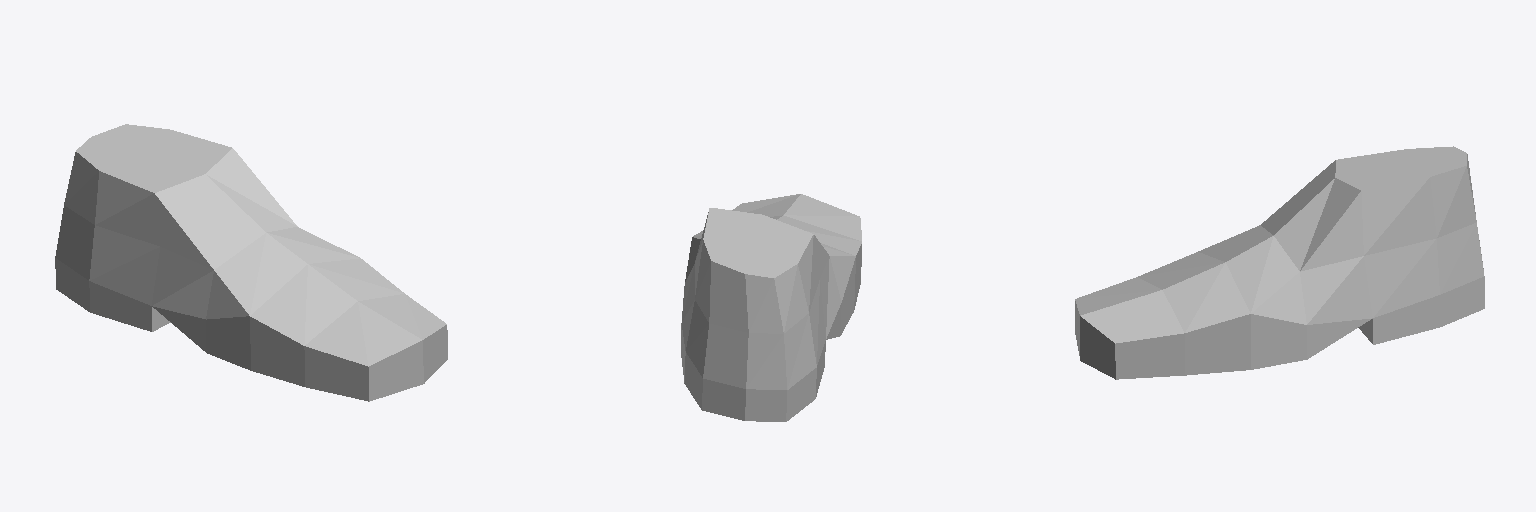
File: shoe_2.obj
3 views of the same model, side by side, from view 1: azimuth 30°, elevation 25°; view 2: azimuth 150°, elevation 25°; view 3: azimuth 270°, elevation 25° (orthographic).
Parts seen in each view (by area): view 1: mesh2_002_mesh2_geometry; view 2: mesh2_002_mesh2_geometry; view 3: mesh2_002_mesh2_geometry.
Part boxes in pixels (x1,y1,x2,y2): mesh2_002_mesh2_geometry: (55, 124, 447, 401); mesh2_002_mesh2_geometry: (681, 194, 861, 421); mesh2_002_mesh2_geometry: (1075, 146, 1484, 379).
Bounding box in the file's own units: 18.62 × 11.97 × 30.03.